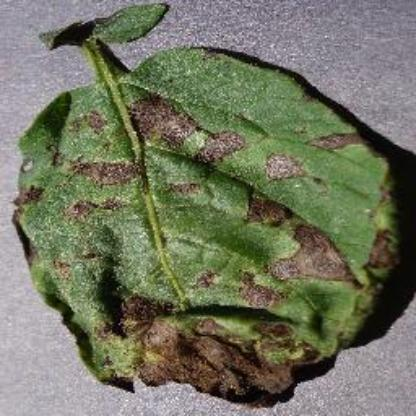Early-Blight: (13, 5, 405, 407)
